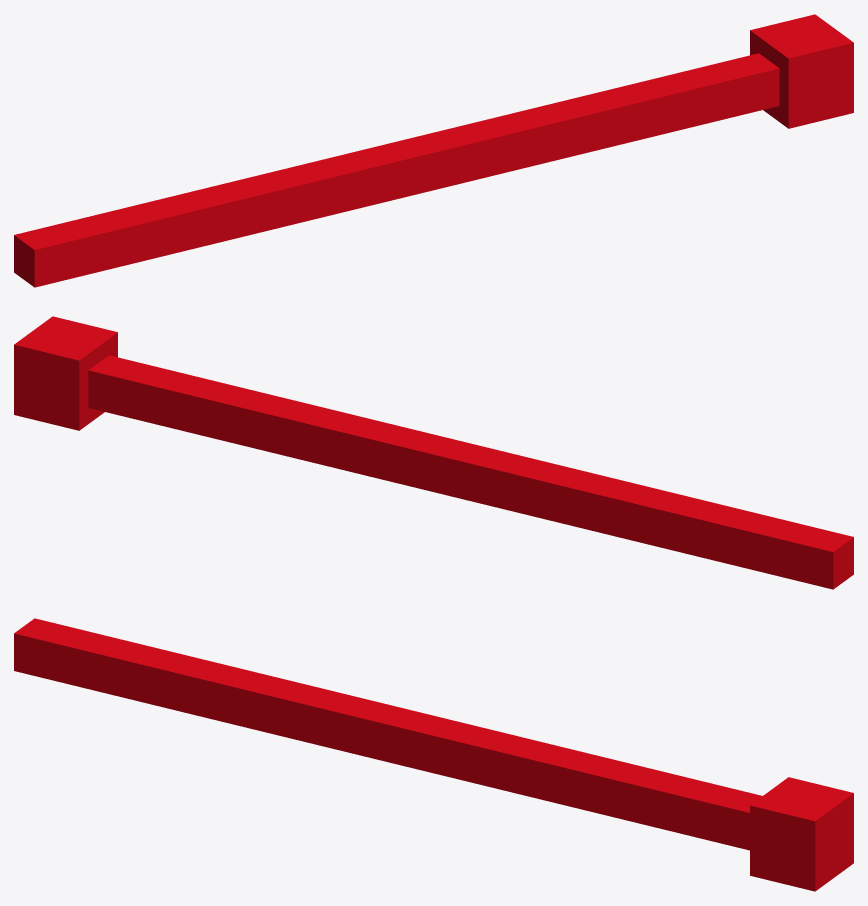
3 views of the same model, one above another, from view 1: azimuth 30°, elevation 25°; view 2: azimuth 150°, elevation 25°; view 3: azimuth 330°, elevation 25° (orthographic).
Parts seen in each view (by area): view 1: Cube.003; view 2: Cube.003; view 3: Cube.003.
Boxes of the visible parts, x1,y1,x2,y2 form: Cube.003: (14, 14, 853, 287); Cube.003: (14, 316, 853, 589); Cube.003: (14, 618, 853, 891).
Bounding box in the file's own units: 2.23 × 0.1848 × 0.1848.
